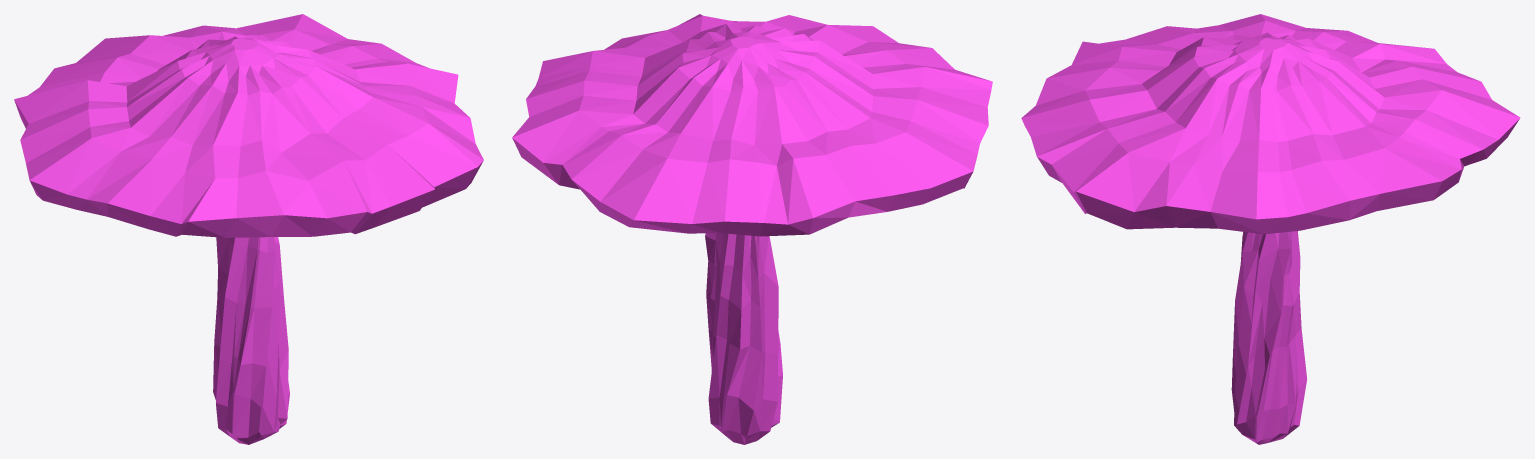
Rendered from SM_Mushroom_Glow_Giant_A_Fantasy.fbx.
3 renders of one model, left to right at view 1: azimuth 30°, elevation 25°; view 2: azimuth 150°, elevation 25°; view 3: azimuth 270°, elevation 25°, orthographic.
Visible parts, largest first — view 1: SM_Mushroom_Glow_Giant_A_Fantasy; view 2: SM_Mushroom_Glow_Giant_A_Fantasy; view 3: SM_Mushroom_Glow_Giant_A_Fantasy.
Part boxes in pixels (box(x1,y1,x2,y2)): SM_Mushroom_Glow_Giant_A_Fantasy: box(14, 14, 483, 444); SM_Mushroom_Glow_Giant_A_Fantasy: box(512, 14, 992, 444); SM_Mushroom_Glow_Giant_A_Fantasy: box(1021, 14, 1520, 444).
Size of the model in its own units: 14.35 by 12.67 by 14.52.
